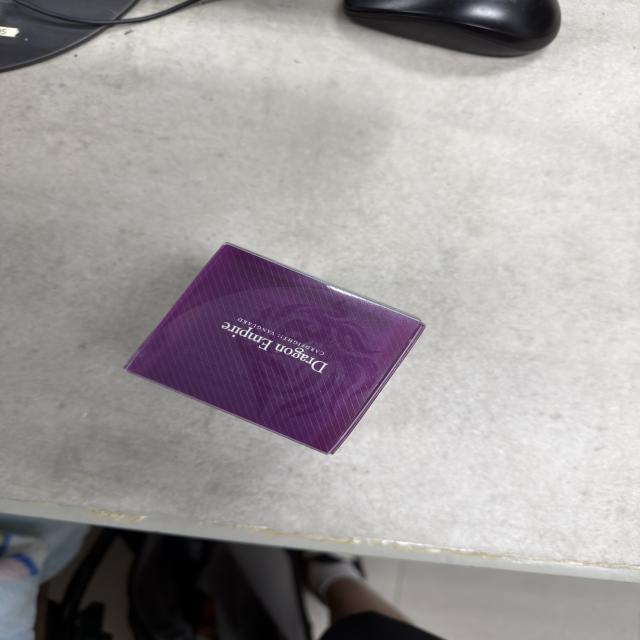box: (121, 240, 426, 458)
